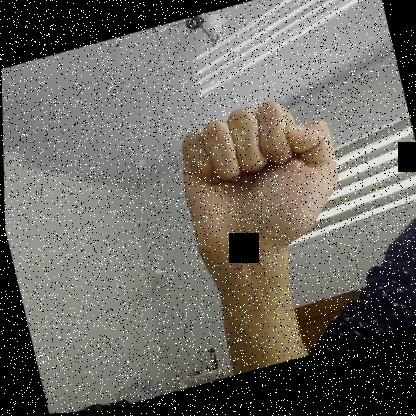A: (164, 86, 351, 268)
